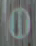Two way: (4, 4, 35, 42)
